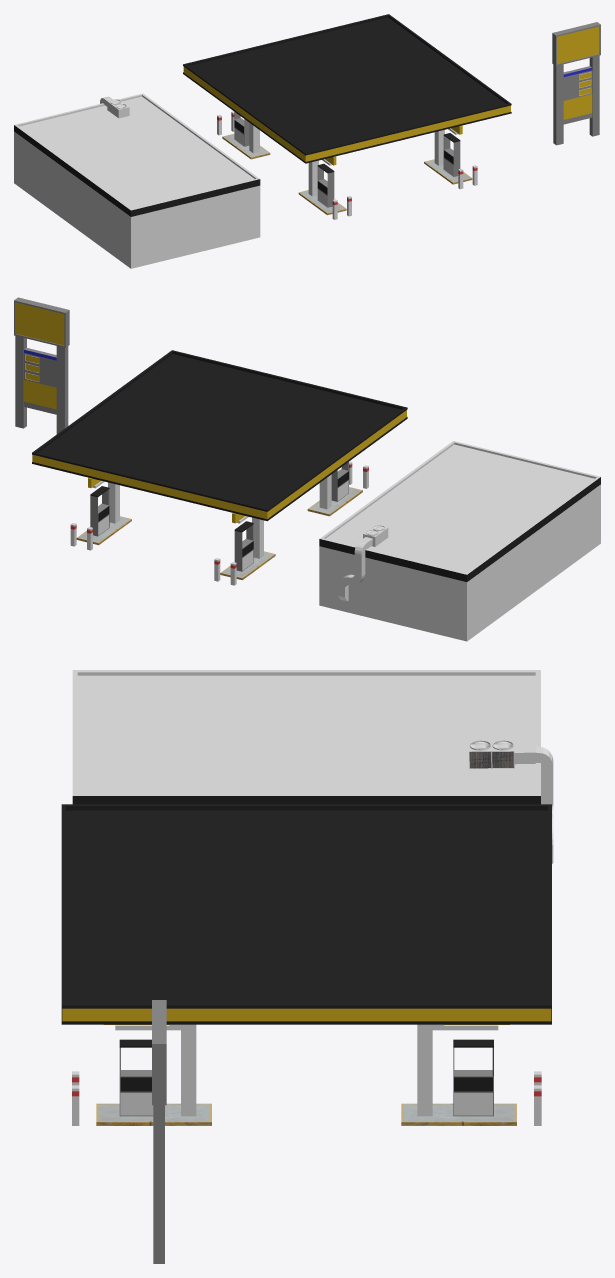
Rendered from gasStation 1.fbx.
The picture shows the model from 3 angles, top to bottom: view 1: azimuth 30°, elevation 25°; view 2: azimuth 150°, elevation 25°; view 3: azimuth 270°, elevation 25°; orthographic projection. The views are drawn at different scales.
Parts seen in each view (by area): view 1: Petrol Thing, Cube.001, Petrol Sign, Cube; view 2: Petrol Thing, Cube.001, Petrol Sign, Cube; view 3: Petrol Thing, Cube.001, Cube, Petrol Sign.
Boxes of the visible parts, bbox=[...] form: Petrol Thing: bbox=[183, 14, 511, 207]; Cube.001: bbox=[14, 93, 260, 268]; Petrol Sign: bbox=[552, 22, 600, 145]; Cube: bbox=[217, 111, 477, 219]; Petrol Thing: bbox=[32, 350, 407, 571]; Cube.001: bbox=[319, 441, 600, 641]; Petrol Sign: bbox=[14, 297, 69, 434]; Cube: bbox=[70, 461, 368, 585]; Petrol Thing: bbox=[61, 804, 551, 1116]; Cube.001: bbox=[72, 670, 553, 863]; Cube: bbox=[72, 1071, 541, 1125]; Petrol Sign: bbox=[152, 1000, 166, 1263].
Size of what is drawn, in the model's own units: 2959 by 640 by 1287.
